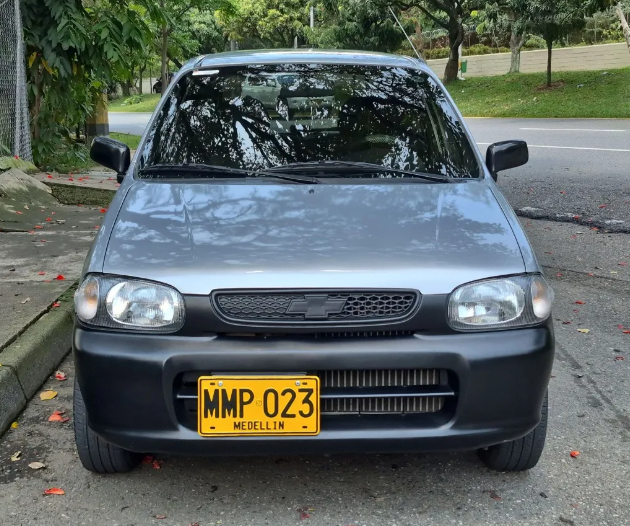placa: (197, 373, 318, 438)
